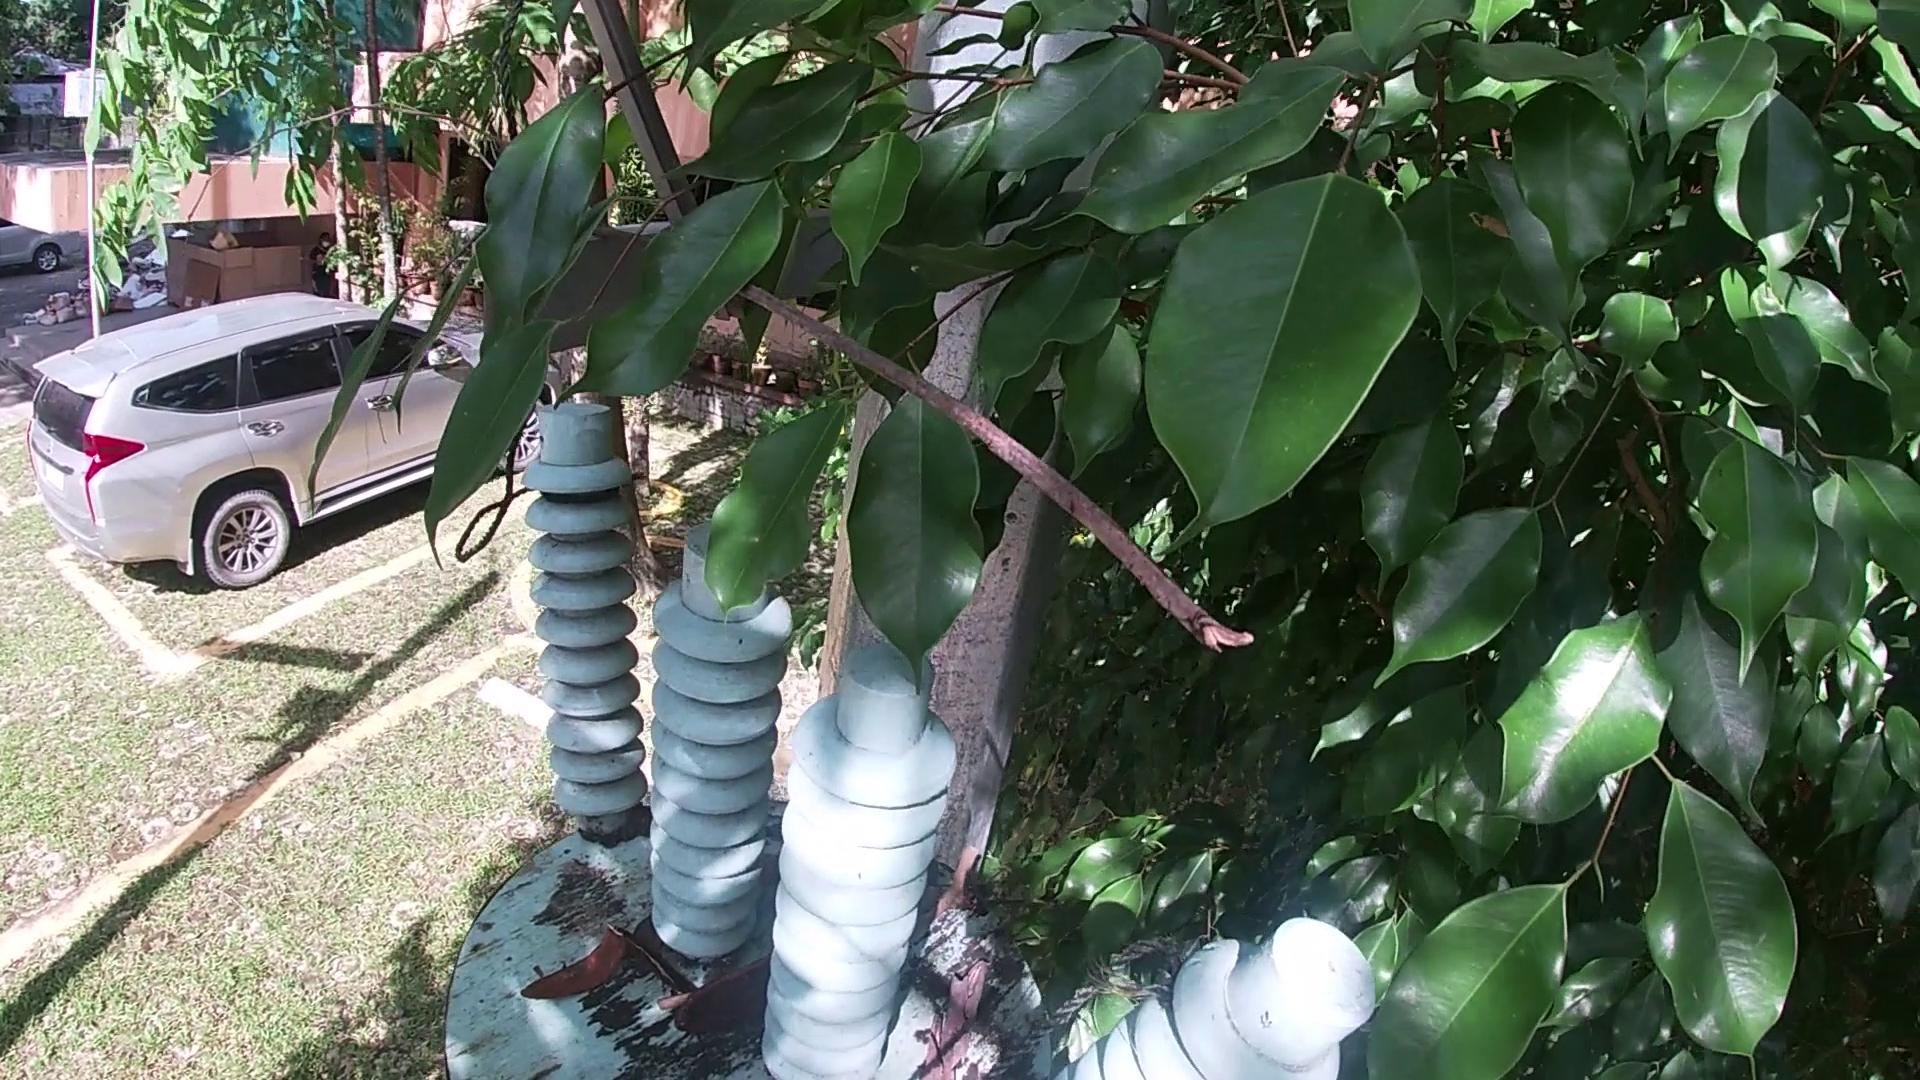leaf: (629, 924, 691, 994)
mahogany fruit: (516, 930, 630, 1015), (678, 971, 771, 1052)
tree branch: (592, 219, 1290, 670), (913, 948, 1004, 1080), (913, 849, 977, 934), (916, 887, 998, 913), (644, 982, 684, 1019)
